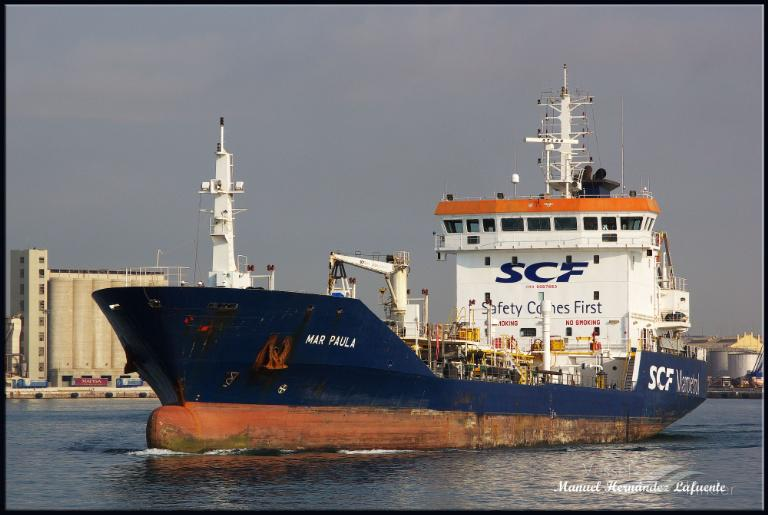OCR: (486, 252, 589, 292), (642, 358, 712, 404), (300, 323, 360, 356)
